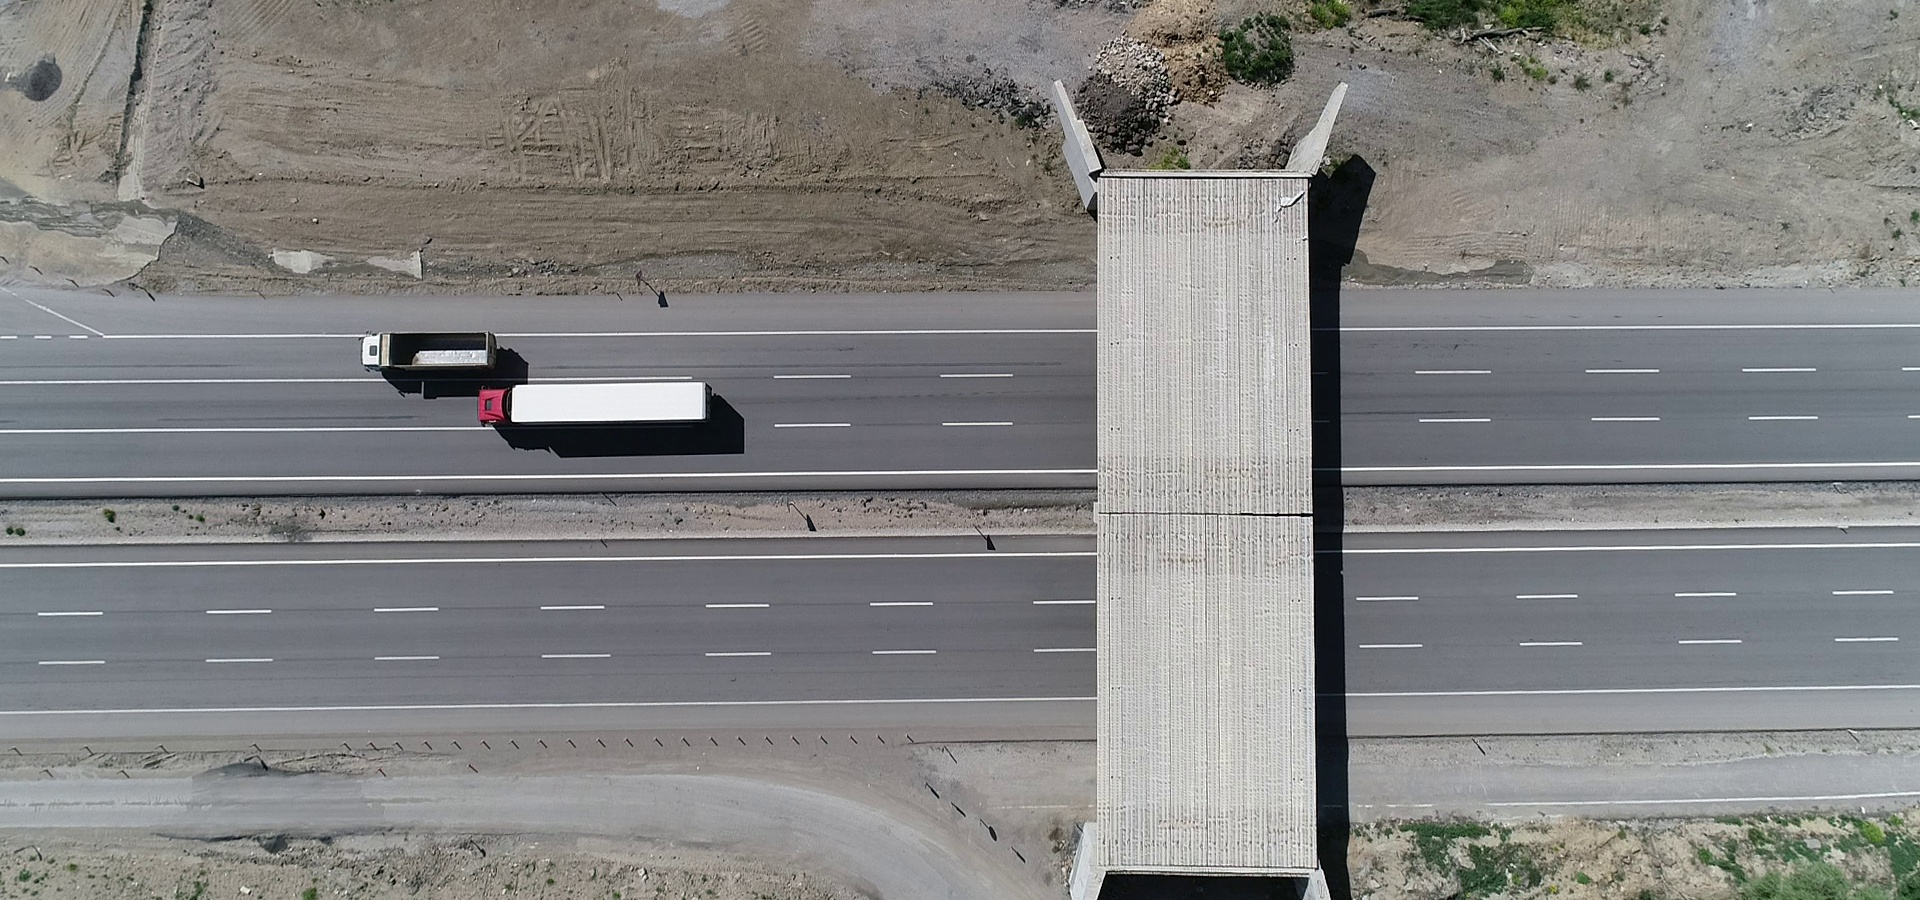kamyon: (473, 372, 726, 435), (353, 324, 520, 376)
